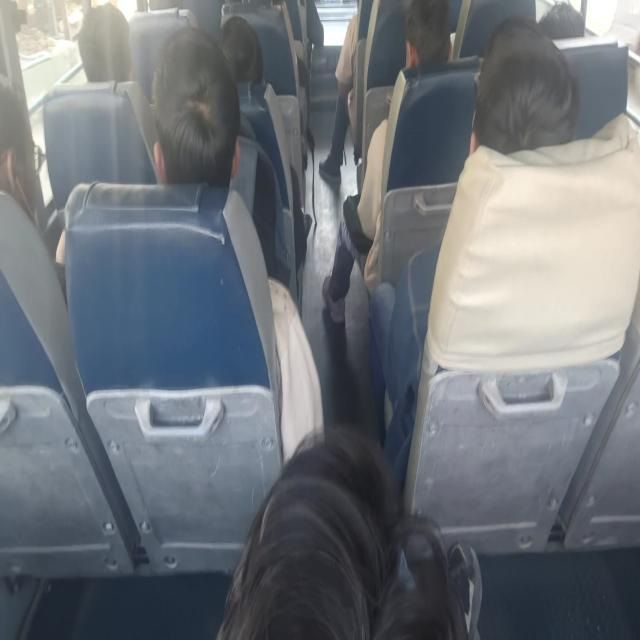person: (374, 14, 581, 486), (216, 426, 482, 638), (321, 0, 453, 324), (149, 26, 295, 292), (318, 0, 405, 181), (469, 15, 580, 156), (150, 26, 242, 187), (0, 82, 65, 264), (318, 2, 360, 180), (77, 2, 133, 83), (219, 15, 264, 84), (538, 1, 584, 40)
